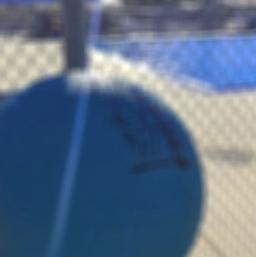algae: (0, 69, 212, 257)
